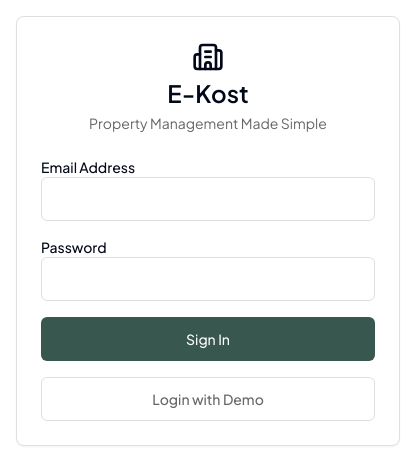
Test case: LoginForm › edge cases › disables submit button while submitting
In the field labelled "Email Address": (208, 199) [41,177,375,221], type "john@example.com"
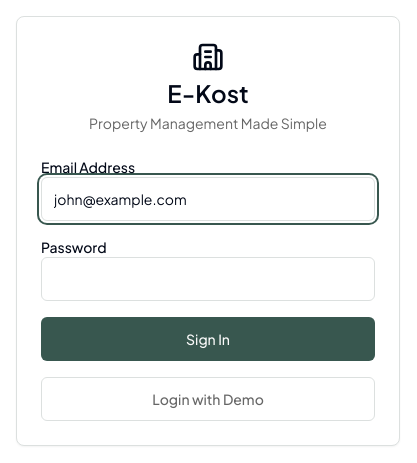
In the password field labelled "Password": (208, 279) [41,257,375,301], type "password123"
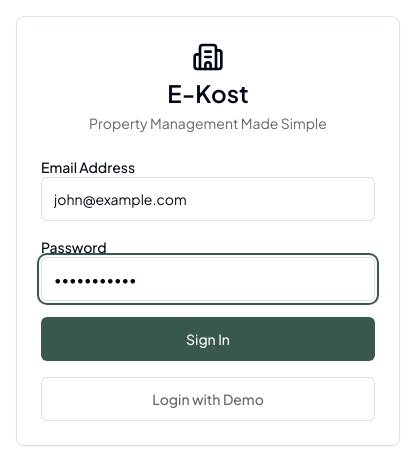
Click the button "Sign In": (208, 339) [41,317,375,361]
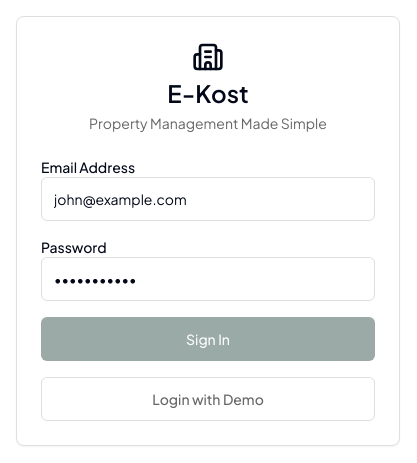
Check: the button "Sign In" is disabled, box [41,317,375,361]
